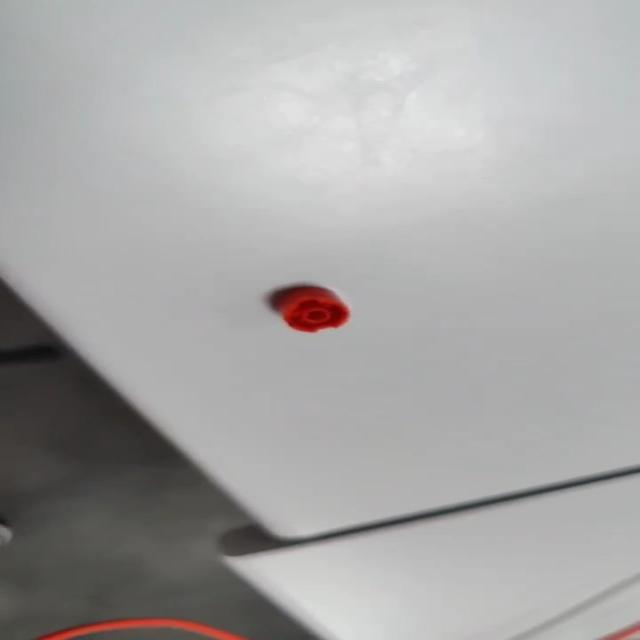S2x2x1: (263, 282, 356, 336), (458, 32, 469, 34)
